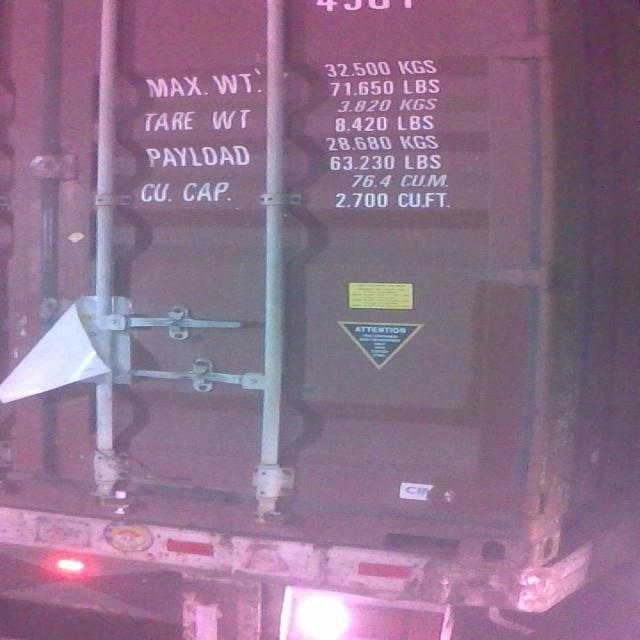seal: (105, 478, 140, 515)
